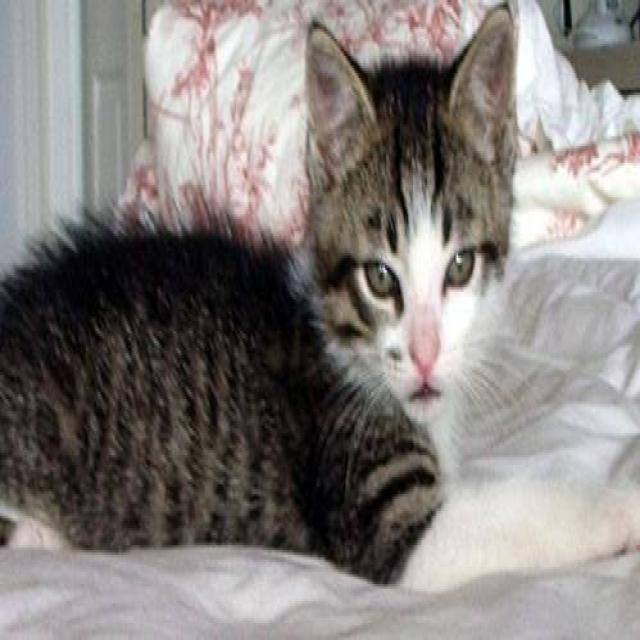Cat: (300, 7, 536, 462)
